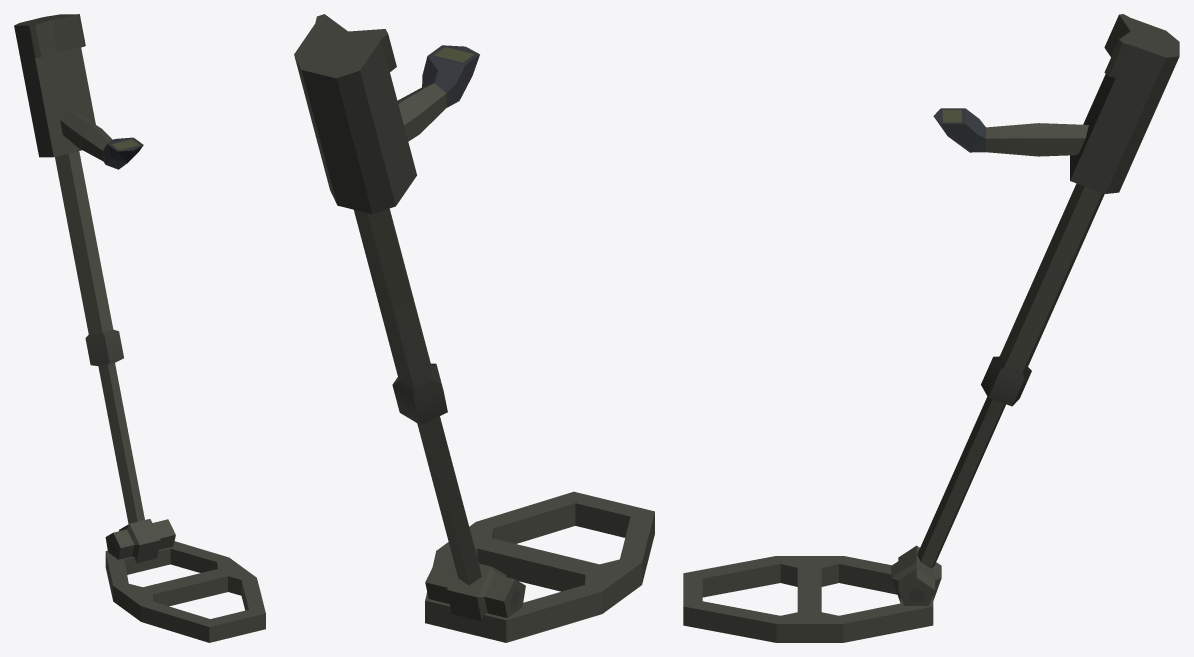
File: SM_Prop_Metal_Detector_01.glb
3 views of the same model, side by side, from view 1: azimuth 30°, elevation 25°; view 2: azimuth 150°, elevation 25°; view 3: azimuth 270°, elevation 25° (orthographic). The views are drawn at different scales.
Parts seen in each view (by area): view 1: SM_Prop_Metal_Detector_01; view 2: SM_Prop_Metal_Detector_01; view 3: SM_Prop_Metal_Detector_01.
Boxes of the visible parts, box(x1,y1,x2,y2) form: SM_Prop_Metal_Detector_01: box(14, 14, 265, 642); SM_Prop_Metal_Detector_01: box(294, 14, 654, 642); SM_Prop_Metal_Detector_01: box(683, 14, 1179, 642).
Size of the model in its own units: 0.2519 by 1 by 0.7759.
Materials: 1 (1 with a texture image).
